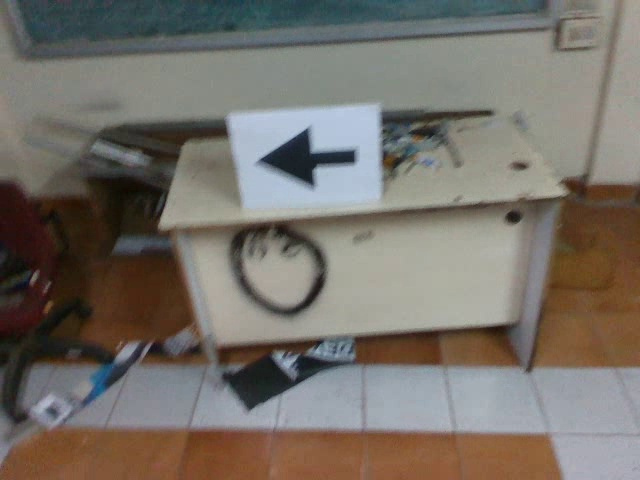Left: (248, 122, 362, 191)
